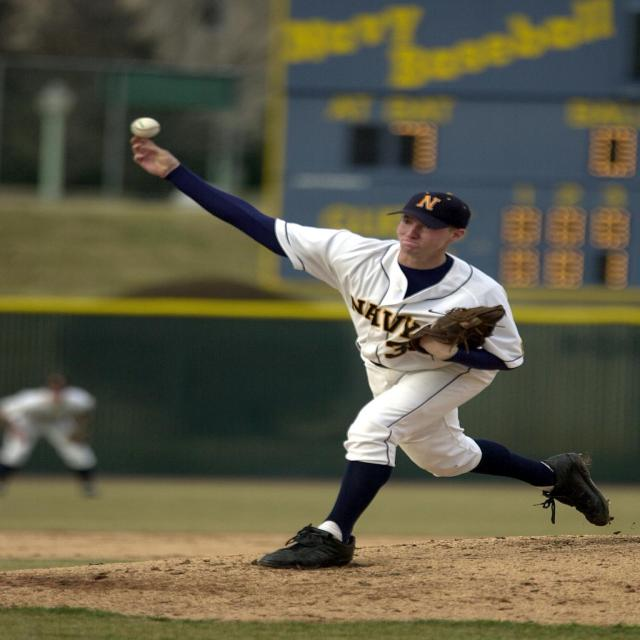Face: (389, 207, 467, 256)
